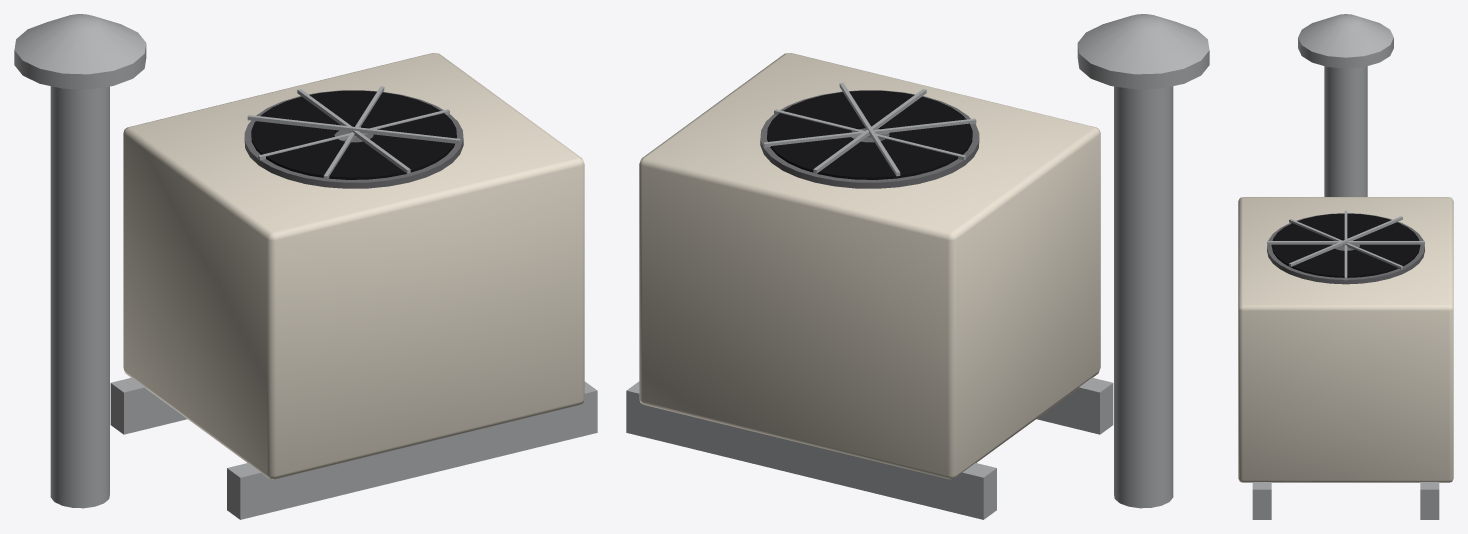
Rendered from roof_ac.glb.
3 renders of one model, left to right at view 1: azimuth 30°, elevation 25°; view 2: azimuth 150°, elevation 25°; view 3: azimuth 270°, elevation 25°, orthographic. The views are drawn at different scales.
Visible parts, largest first — view 1: Case_LOD0, Vent_LOD0, Rail_LOD0, Fan_LOD0, Grille_LOD0, Rail_LOD0.001, Guard_LOD0.003, Guard_LOD0.002, Guard_LOD0; view 2: Case_LOD0, Vent_LOD0, Rail_LOD0.001, Fan_LOD0, Grille_LOD0, Rail_LOD0, Guard_LOD0.001, Guard_LOD0.002, Guard_LOD0, Guard_LOD0.003; view 3: Case_LOD0, Vent_LOD0, Fan_LOD0, Grille_LOD0, Rail_LOD0, Rail_LOD0.001, Guard_LOD0.002, Guard_LOD0.003, Guard_LOD0.001.
Boxes of the visible parts, x1,y1,x2,y2 form: Case_LOD0: (123,53,584,479); Vent_LOD0: (14,14,146,508); Rail_LOD0: (227,381,597,519); Fan_LOD0: (251,90,456,179); Grille_LOD0: (244,90,463,188); Rail_LOD0.001: (110,377,187,434); Guard_LOD0.003: (247,115,460,143); Guard_LOD0.002: (297,89,410,173); Guard_LOD0: (258,109,449,160); Case_LOD0: (639,53,1100,479); Vent_LOD0: (1077,14,1209,508); Rail_LOD0.001: (626,381,996,519); Fan_LOD0: (767,90,972,179); Grille_LOD0: (760,90,979,188); Rail_LOD0: (1036,377,1113,434); Guard_LOD0.001: (763,118,976,147); Guard_LOD0.002: (813,89,926,173); Guard_LOD0: (774,109,965,160); Guard_LOD0.003: (839,82,900,176); Case_LOD0: (1238,197,1453,482); Vent_LOD0: (1298,14,1393,196); Fan_LOD0: (1271,213,1420,277); Grille_LOD0: (1267,213,1424,284); Rail_LOD0: (1252,482,1271,519); Rail_LOD0.001: (1420,482,1439,519); Guard_LOD0.002: (1267,241,1424,244); Guard_LOD0.003: (1289,216,1402,266); Guard_LOD0.001: (1289,219,1402,269).
Bounding box in the file's own units: 1.77 × 1.58 × 0.9.
